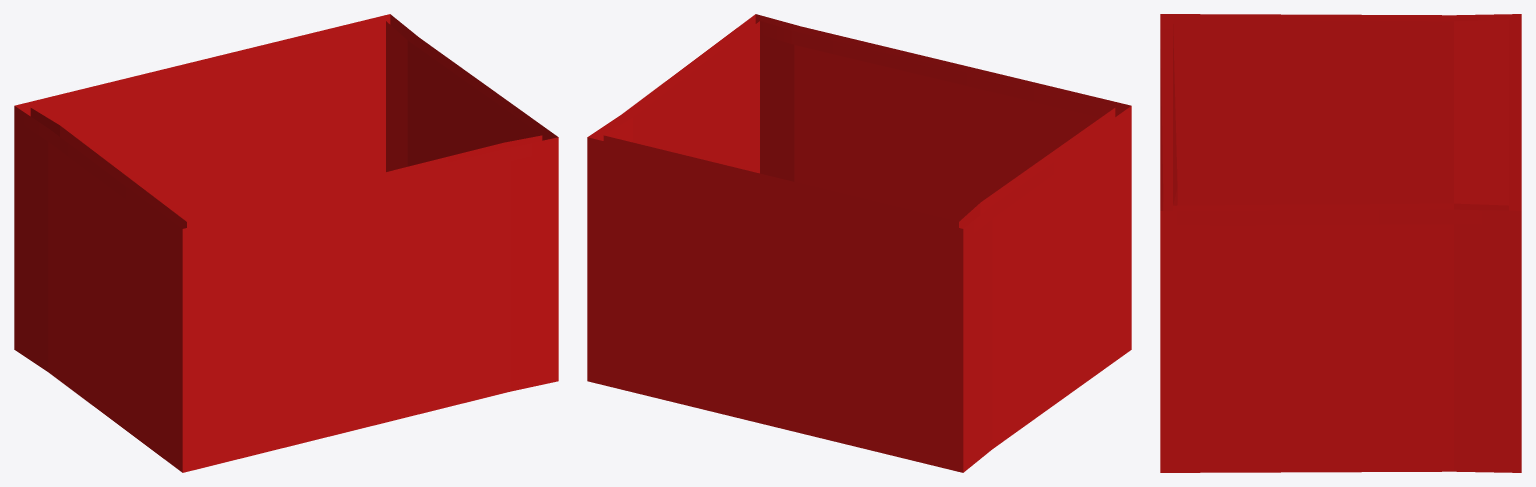
The model's file is Building2_Middel.fbx.
3 renders of one model, left to right at view 1: azimuth 30°, elevation 25°; view 2: azimuth 150°, elevation 25°; view 3: azimuth 270°, elevation 25°, orthographic. The views are drawn at different scales.
Parts seen in each view (by area): view 1: Building2_Middel; view 2: Building2_Middel; view 3: Building2_Middel.
Part boxes in pixels (left/top/right/bottom): Building2_Middel: left=14, top=14, right=558, bottom=472; Building2_Middel: left=587, top=14, right=1131, bottom=472; Building2_Middel: left=1160, top=14, right=1521, bottom=472.
Bounding box in the file's own units: 203 × 126 × 157.
